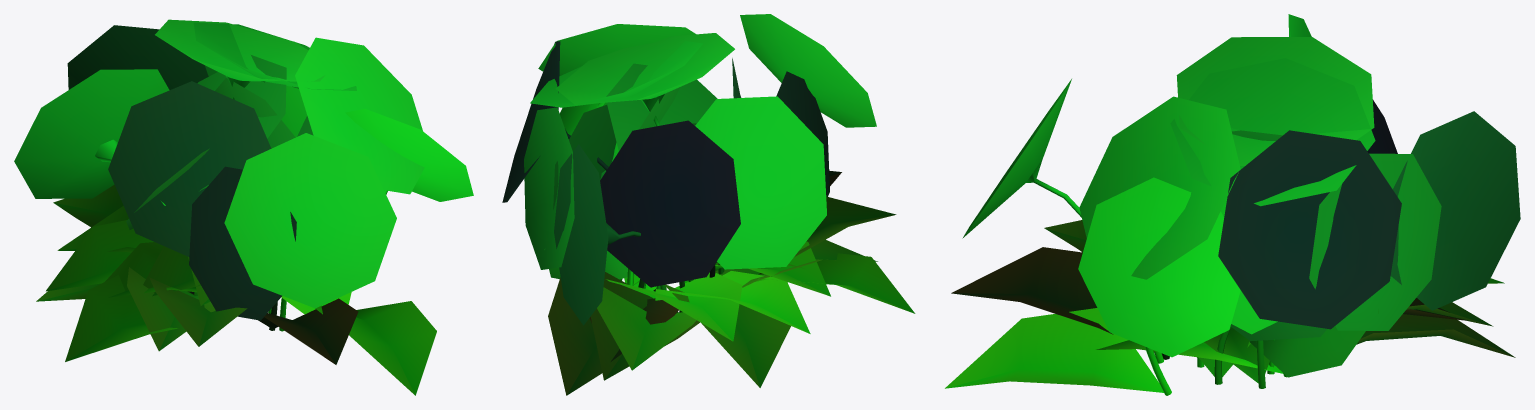
Rendered from mv_FlowerC.fbx.
3 renders of one model, left to right at view 1: azimuth 30°, elevation 25°; view 2: azimuth 150°, elevation 25°; view 3: azimuth 270°, elevation 25°, orthographic. The views are drawn at different scales.
Parts seen in each view (by area): view 1: FlowerC_LOD0; view 2: FlowerC_LOD0; view 3: FlowerC_LOD0.
Boxes of the visible parts, <box> form: FlowerC_LOD0: <box>14,19,473,395</box>; FlowerC_LOD0: <box>502,14,915,395</box>; FlowerC_LOD0: <box>945,14,1520,395</box>.
Size of what is drawn, in the model's own units: 22.75 by 15.33 by 26.51.
